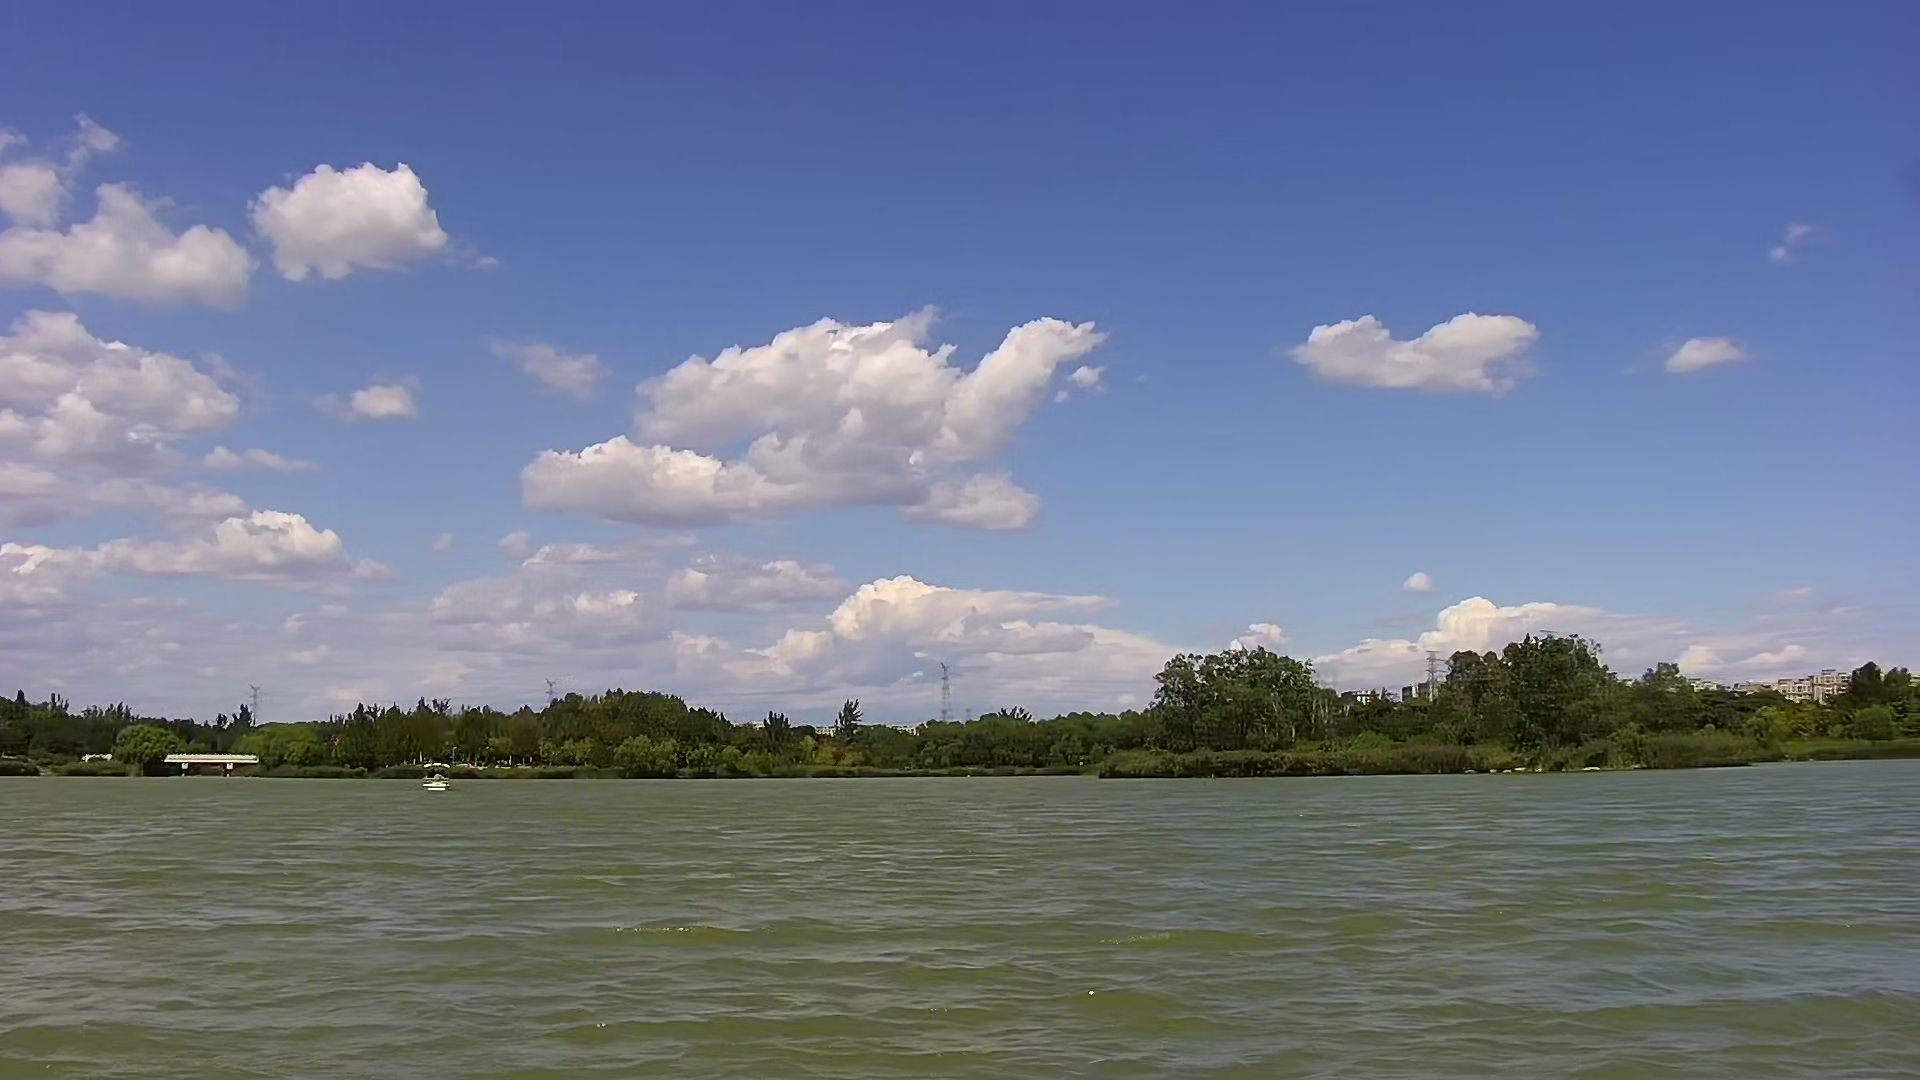boat: (415, 752, 455, 800)
bridge: (164, 744, 266, 786)
